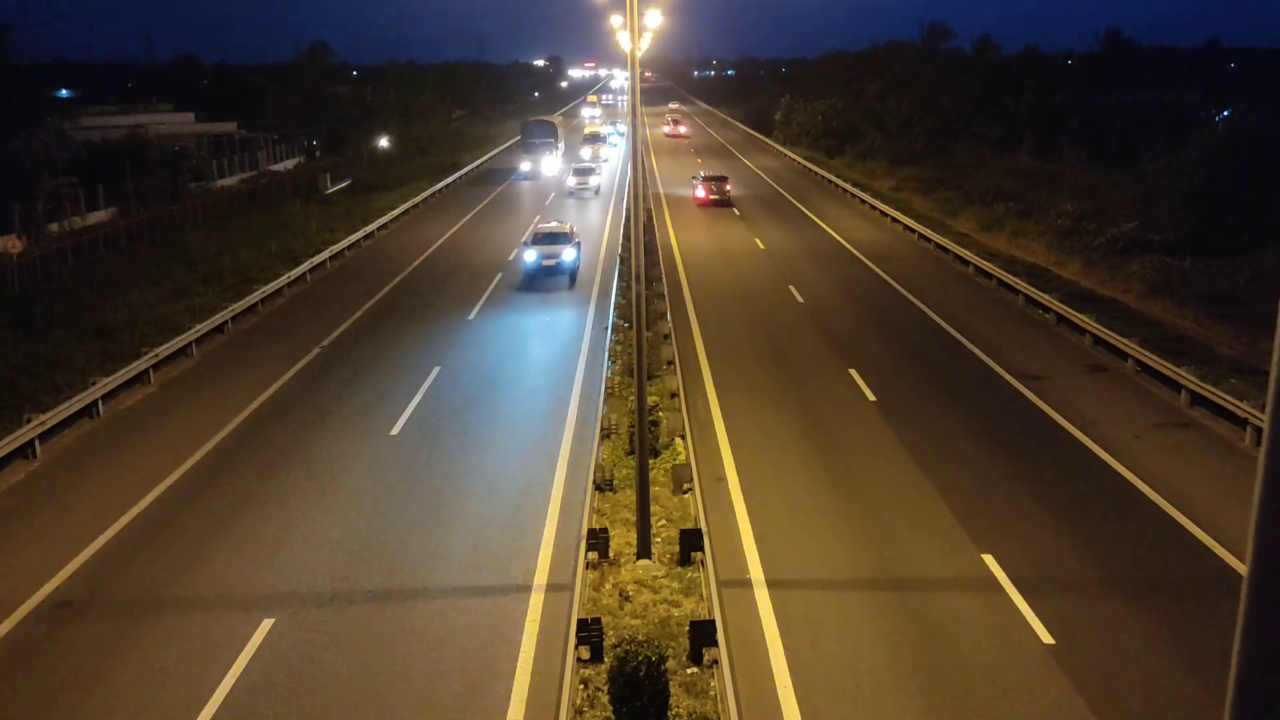car: (517, 219, 583, 291), (691, 171, 734, 208), (565, 163, 604, 198), (661, 116, 691, 139)
